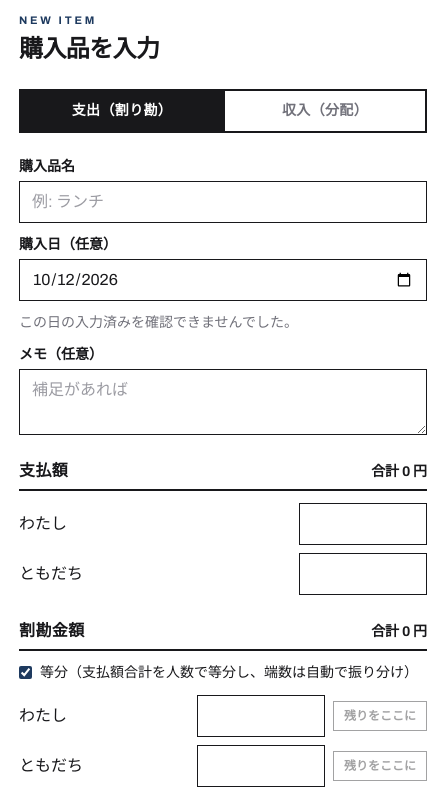
Test: 等分を OFF にすると入力済みの割勘金額がクリアされる
In the number field named "わたし の支払額": (363, 524) [299,502,427,544], type "1000"
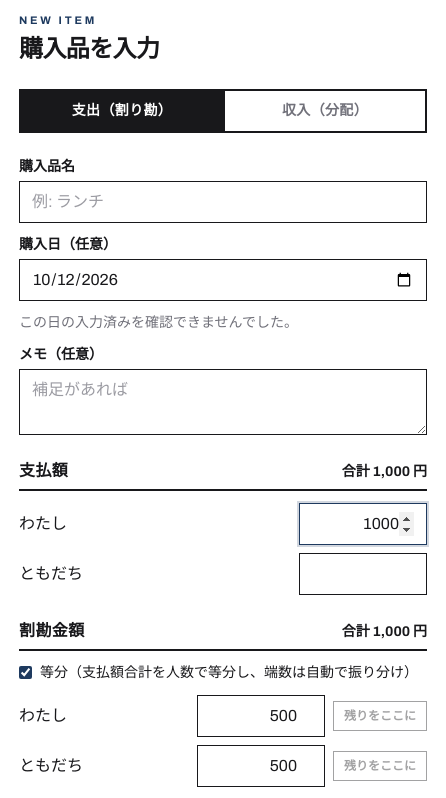
expect the number field named "わたし の割勘金額" holds "500": met, box [197,694,325,736]
Note: 等分を OFF → 自動入力された割勘は破棄され、手入力をまっさらな状態から始められる。
Click the checkbox: (26, 672) [19,666,32,679]
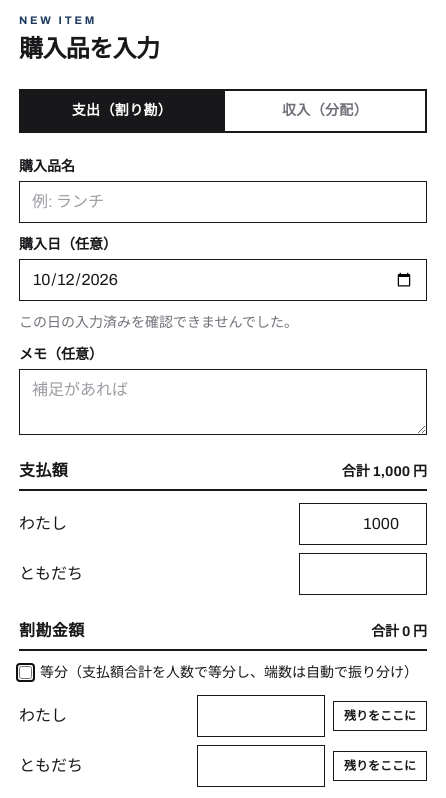
expect the number field named "わたし の割勘金額" is not empty: met, box [197,694,325,736]
expect the number field named "ともだち の割勘金額" is not empty: met, box [197,744,325,786]
